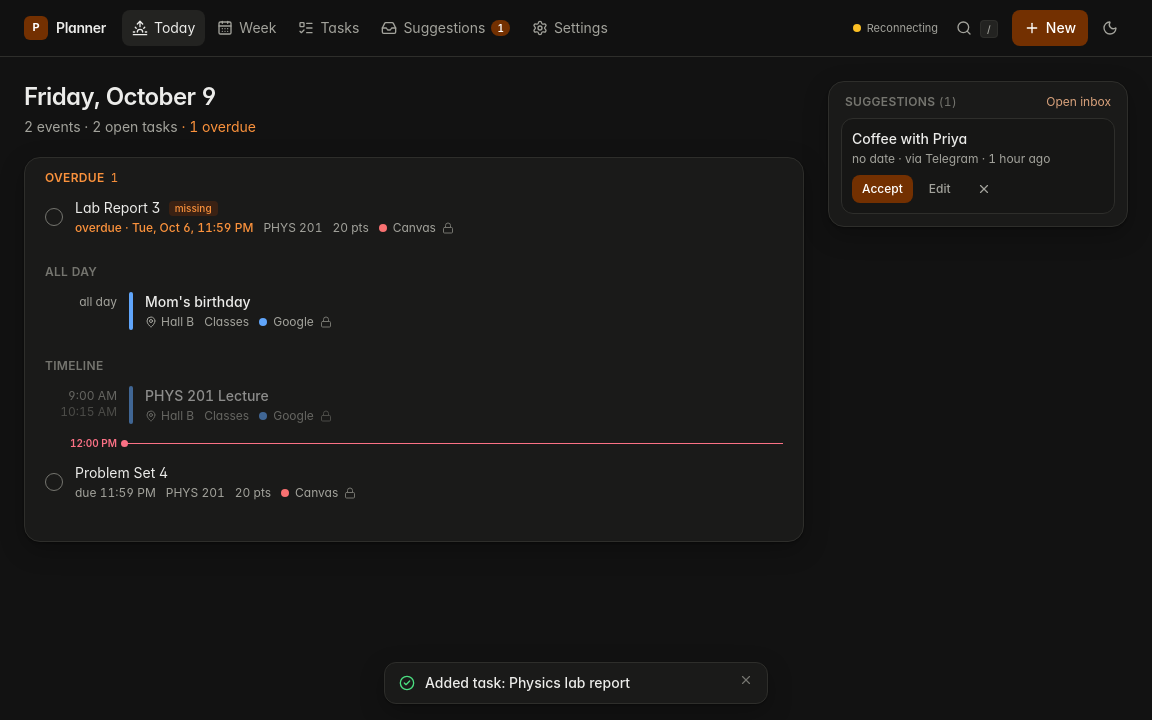
Scenario: item details › Google events open read-only: no inputs, no save, no delete
Click the button with aria-label "Details: PHYS 201 Lecture" at (207,396), box 145,386 -> 269,406
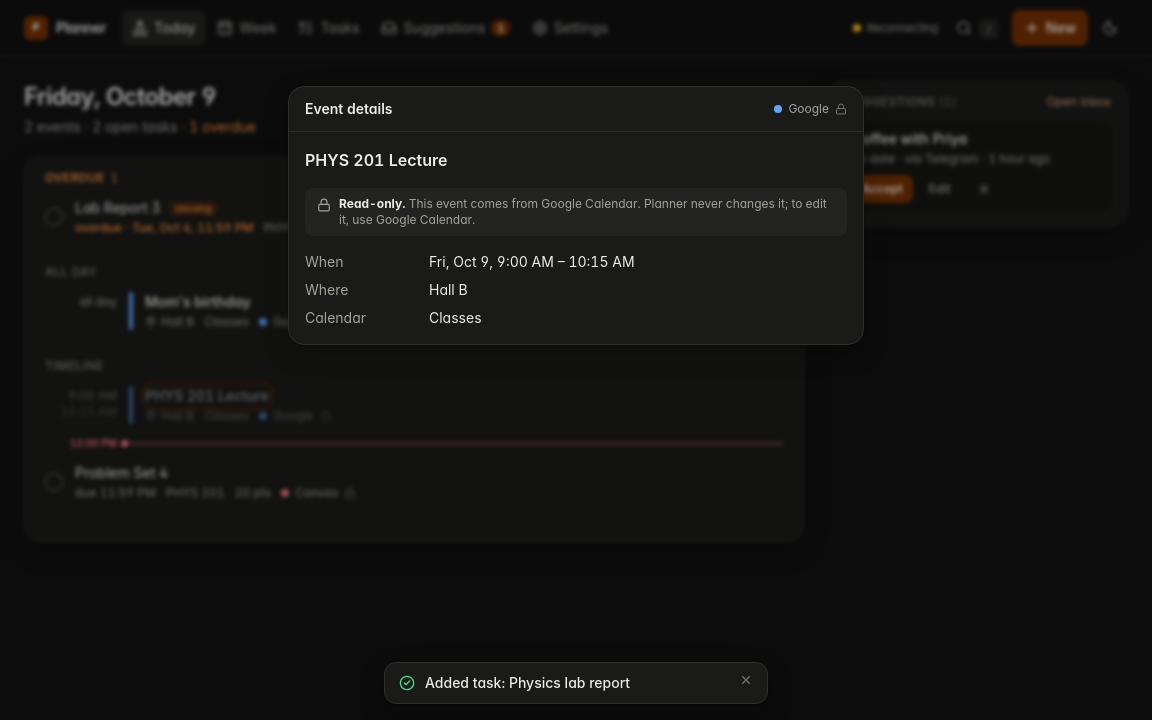
Expected: the text "Read-only." is shown, 339,196 -> 405,211
Expected: the text "comes from Google Calendar" is shown, 339,196 -> 835,228
